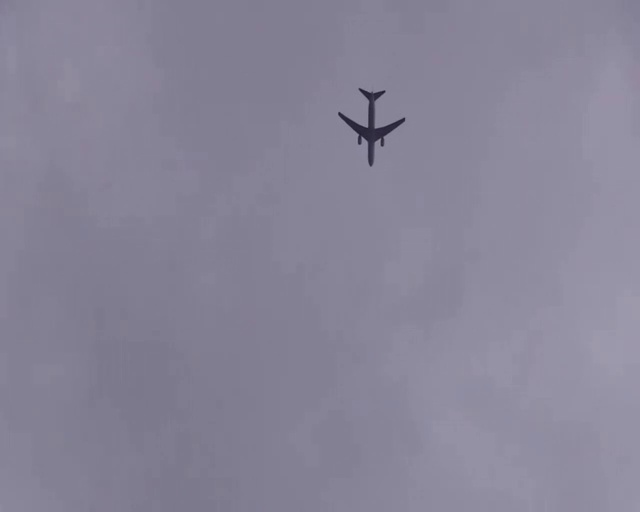AIRPLANE: (337, 87, 406, 167)
